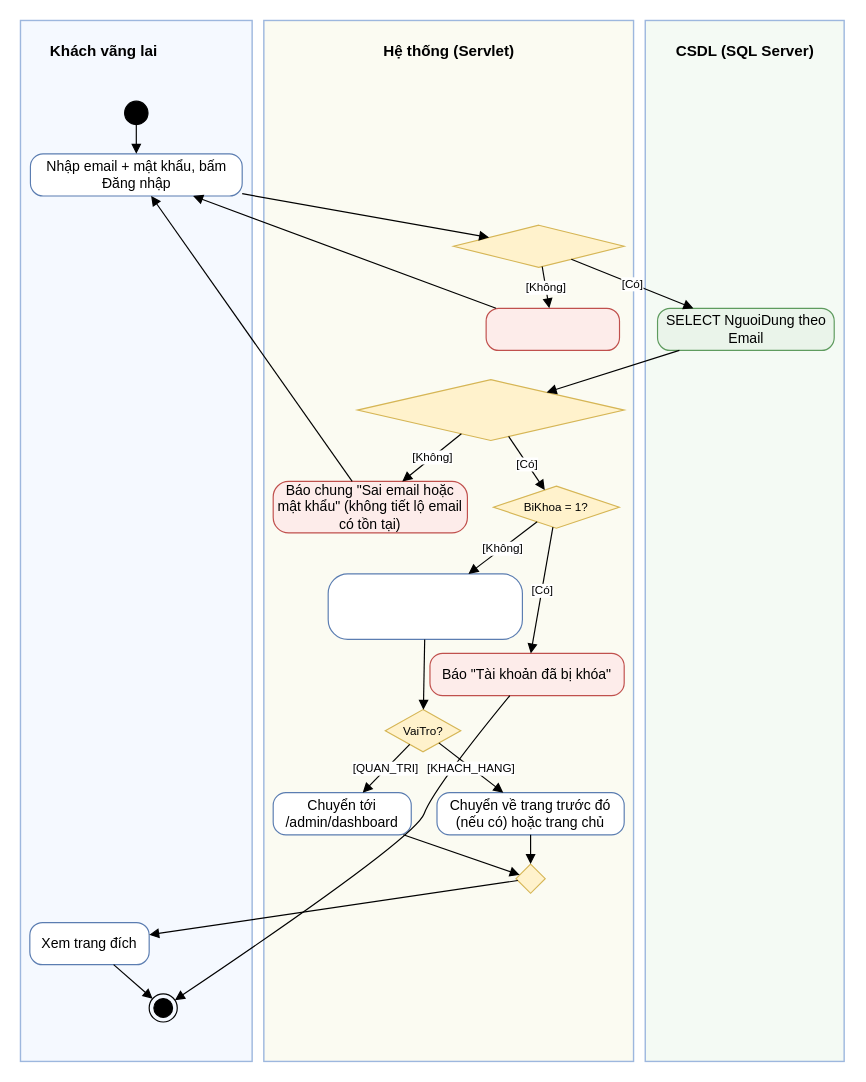
Some shapes in this 866 by 1082 pixel diagram are drawn without their labels. The shapes that lost their labels are listed below. From the top down, each one's centre as x and y in pixels, then its label:
point 538,245: Đúng định dạng?
point 552,328: Báo lỗi định dạng
point 490,409: Tồn tại và mật khẩu khớp hash PBKDF2?
point 424,606: Hủy session cũ, tạo session mới, lưu thông tin người dùng (không lưu mật khẩu)
